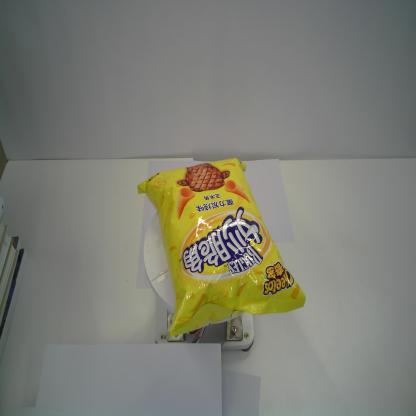Puffed Food: (136, 157, 307, 338)
